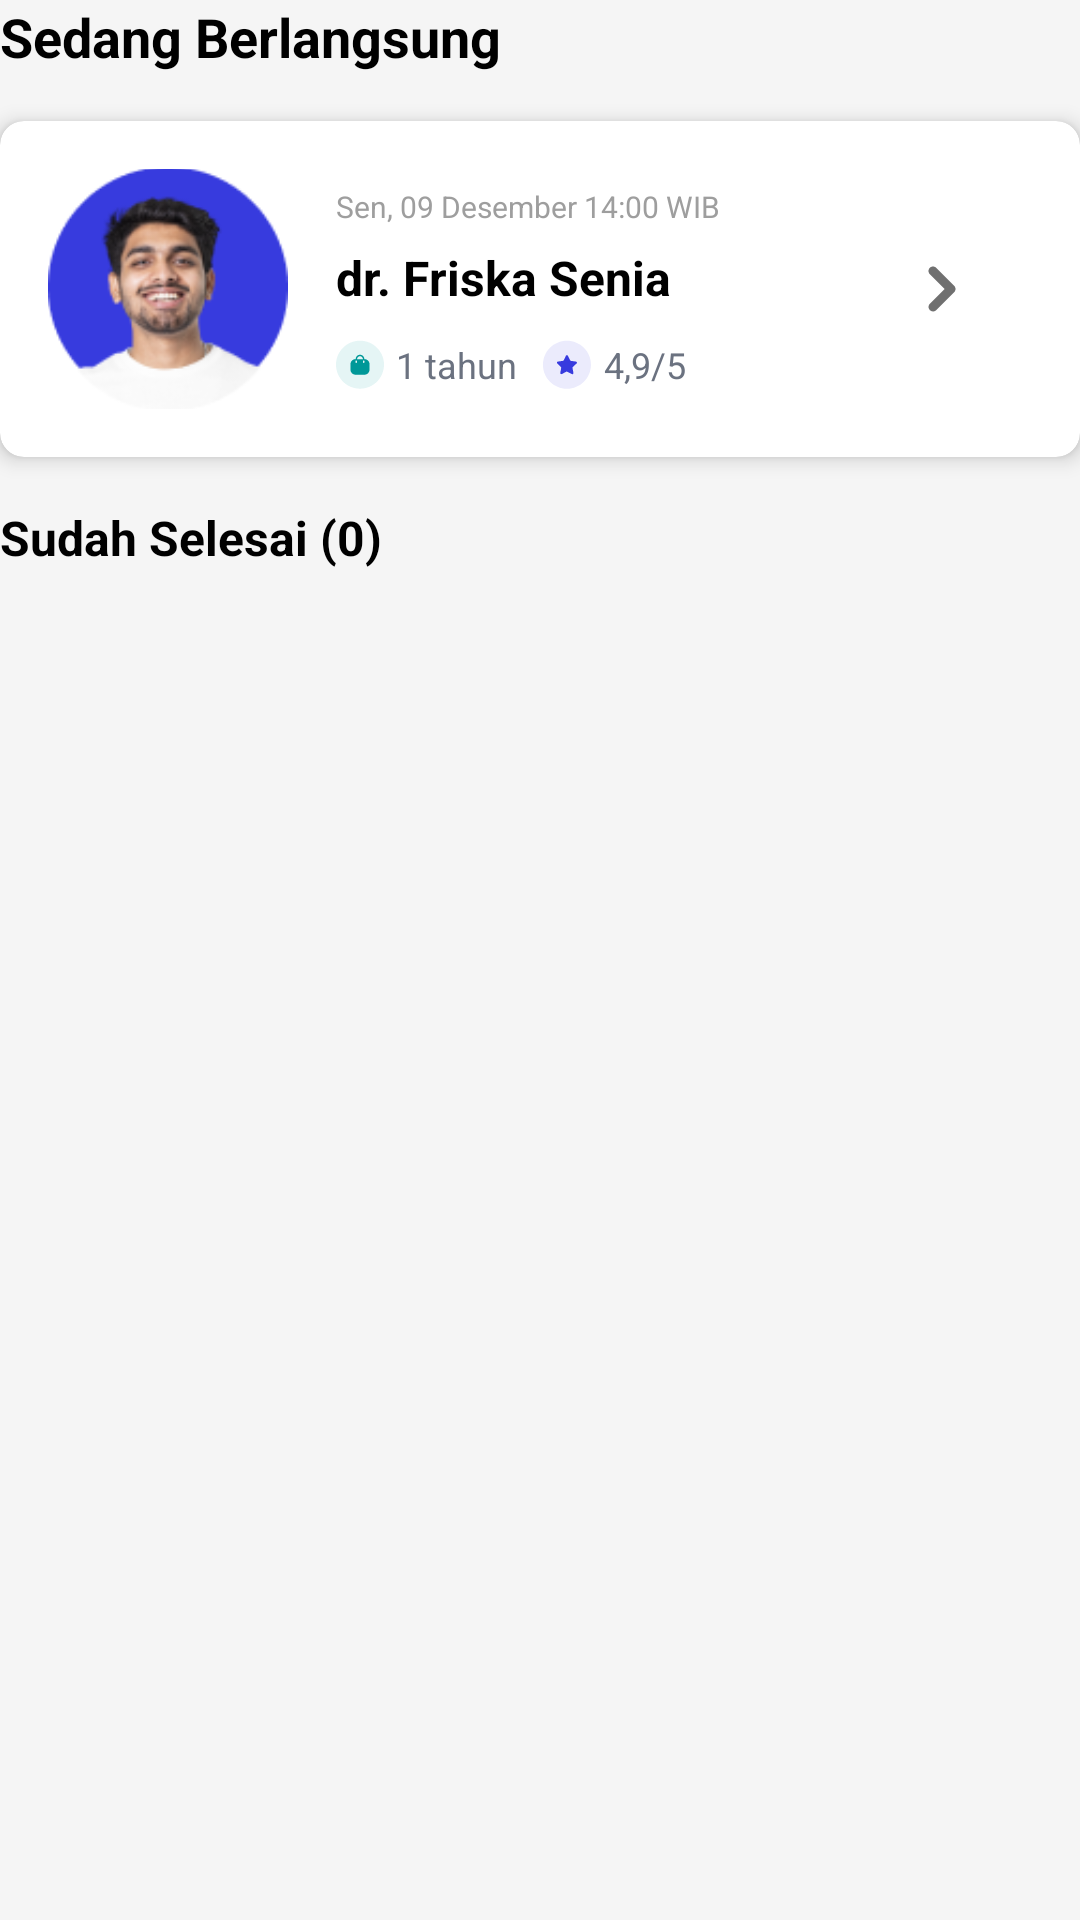

Point at icon controls on the screen. Image size 1080 x 1920, points as (x,y).
arrow right: (942,289)
